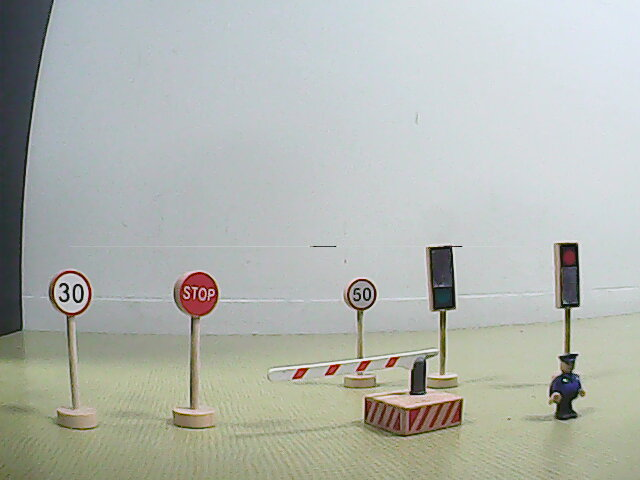barrier: (259, 346, 468, 438)
green_traffic_sign: (426, 245, 458, 312)
person: (545, 354, 587, 422)
red_traffic_sign: (554, 243, 580, 308)
sign_30: (49, 268, 93, 318)
sign_50: (345, 278, 377, 312)
stop_sign: (174, 271, 220, 319)
